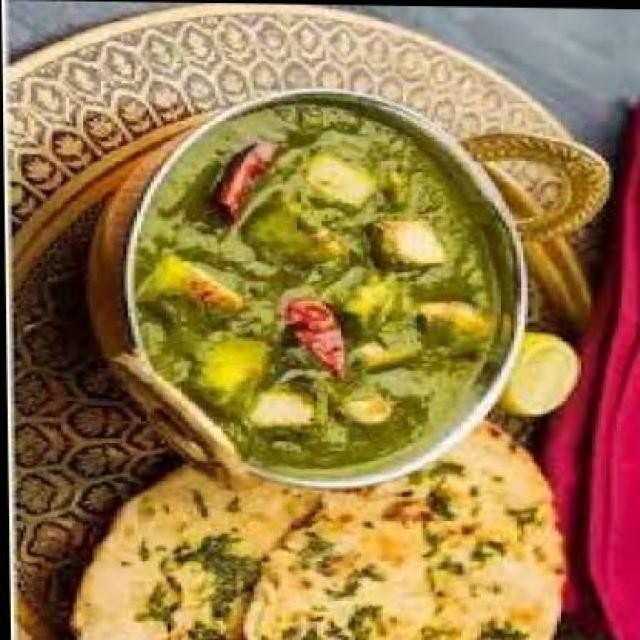palak_paneer: (126, 100, 499, 471)
